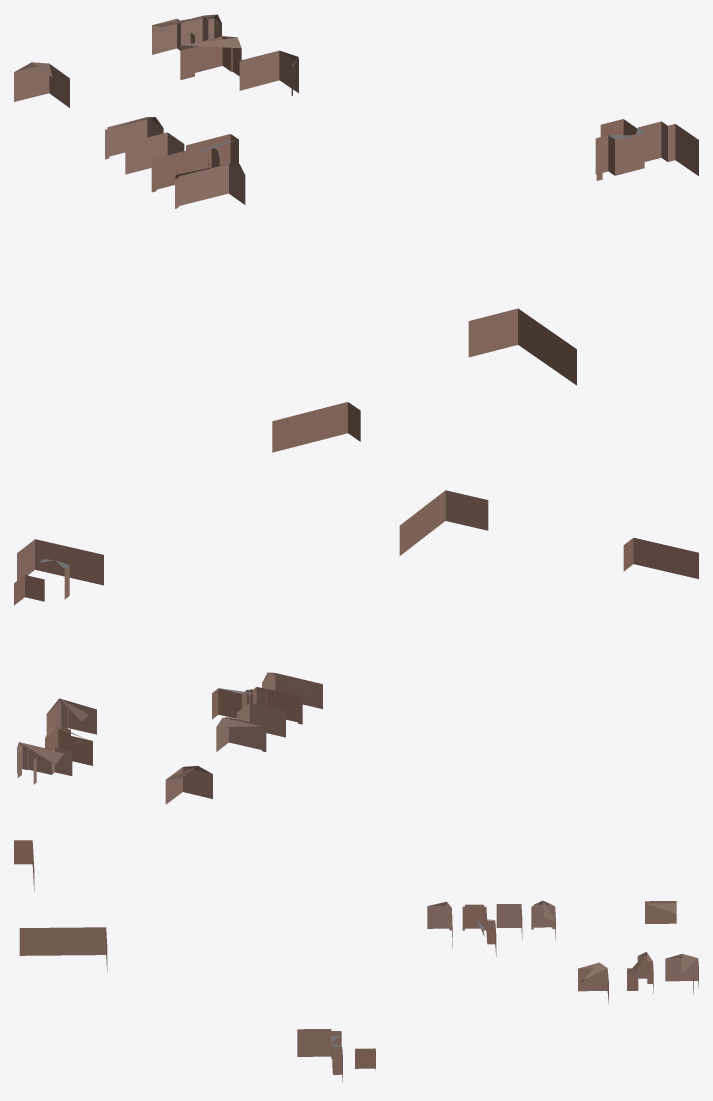
Rendered from c_1633_17830_buildings_residential.glb.
3 views of the same model, one above another, from view 1: azimuth 30°, elevation 25°; view 2: azimuth 150°, elevation 25°; view 3: azimuth 270°, elevation 25° (orthographic). The views are drawn at different scales.
Parts seen in each view (by area): view 1: geometry_0; view 2: geometry_0; view 3: geometry_0.
Boxes of the visible parts, x1,y1,x2,y2 form: geometry_0: [14, 14, 698, 452]; geometry_0: [14, 490, 698, 804]; geometry_0: [14, 840, 698, 1082].
Bounding box in the file's own units: 190 × 11.54 × 246.
